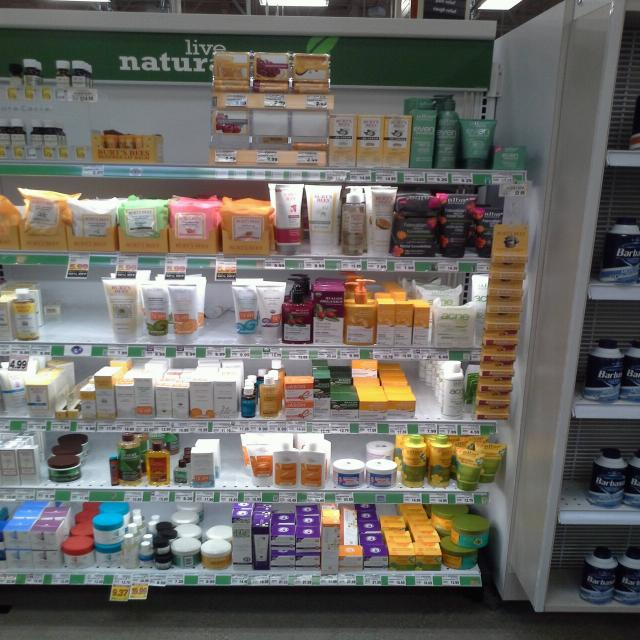void: (155, 54, 211, 182), (42, 281, 100, 351), (253, 108, 282, 186)
